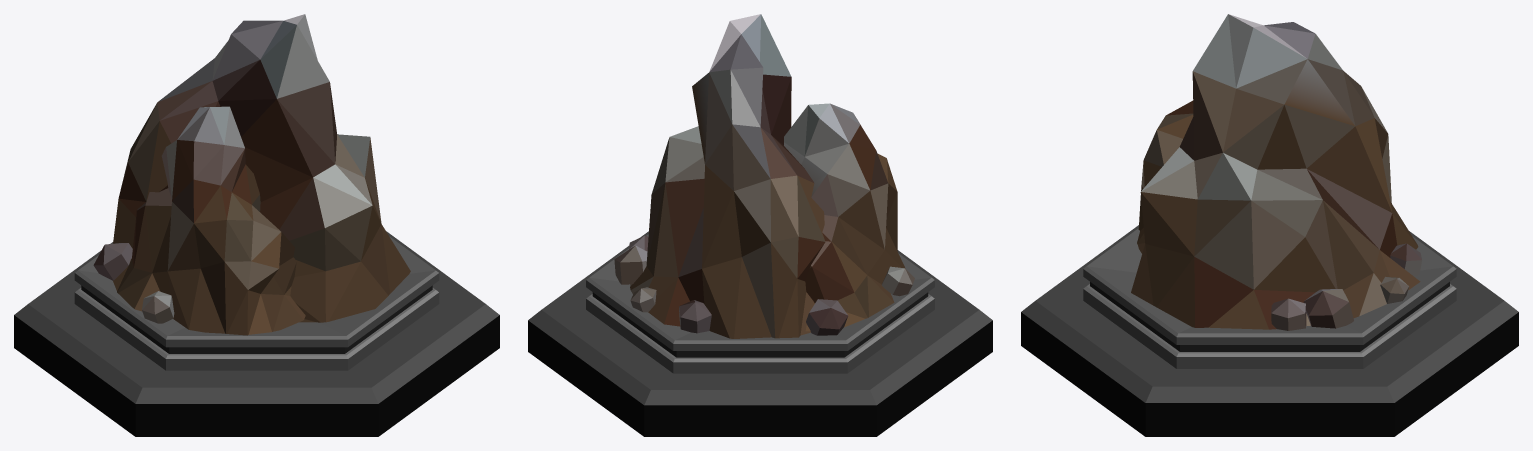
Rendered from hex_mountainTile.fbx.
3 views of the same model, side by side, from view 1: azimuth 30°, elevation 25°; view 2: azimuth 150°, elevation 25°; view 3: azimuth 270°, elevation 25° (orthographic). The views are drawn at different scales.
Visible parts, largest first — view 1: hex_mountainTile; view 2: hex_mountainTile; view 3: hex_mountainTile.
Part boxes in pixels (x1=…): hex_mountainTile: x1=14, y1=14, x2=499, y2=436; hex_mountainTile: x1=528, y1=14, x2=992, y2=436; hex_mountainTile: x1=1021, y1=14, x2=1518, y2=436.
Size of the model in its own units: 1.73 by 1.52 by 2.
